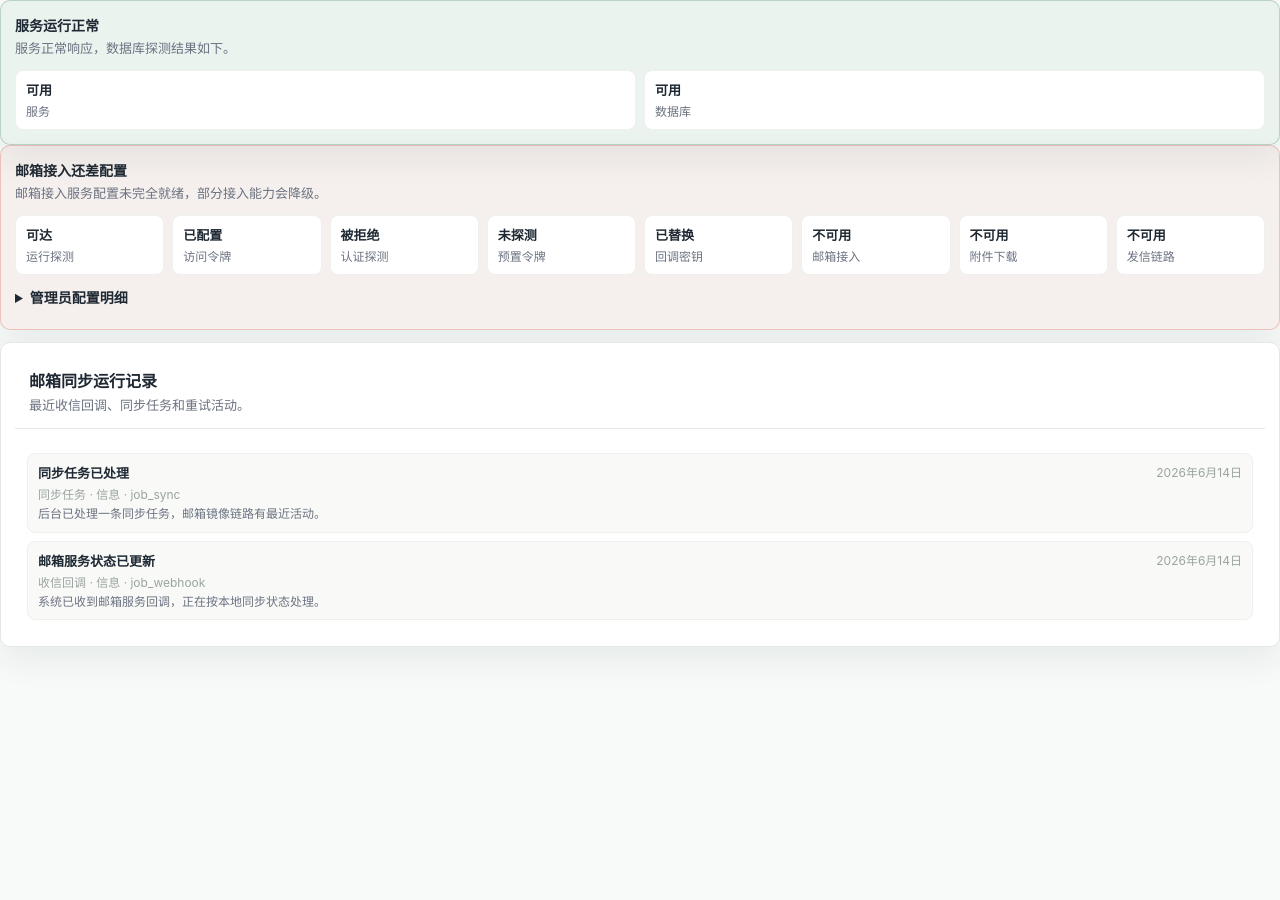
Test: SystemStatusSettingsPanel › shows deployment diagnostics only inside system settings
expect the text "服务运行正常" is shown: met, box [15,17,99,34]
expect the text "数据库" is shown: met, box [655,104,691,119]
Click the heading "管理员配置明细". click: click(79, 298)
box: [30,290,128,306]
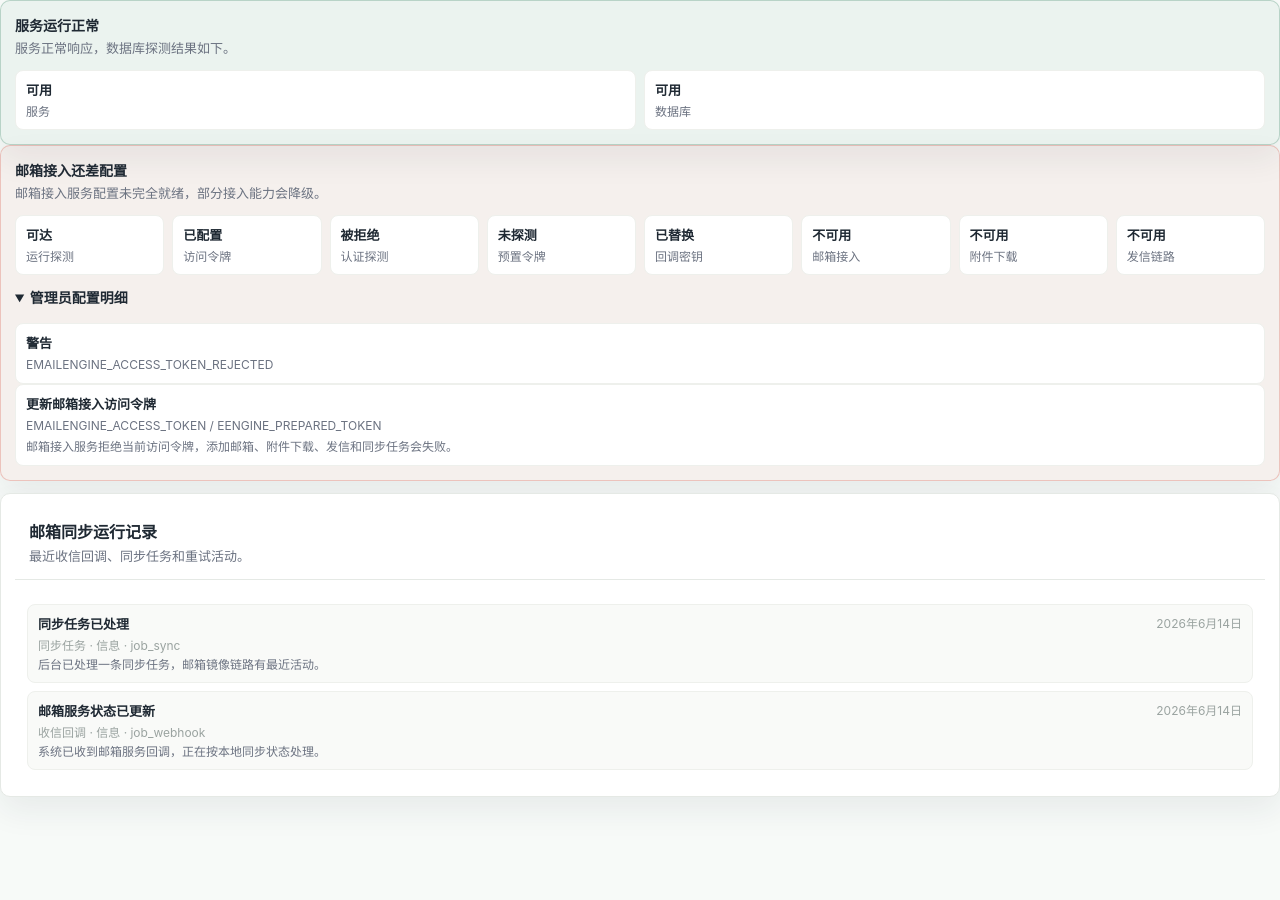
expect the text "同步任务已处理" is shown: met, box [38,616,129,632]
expect the text "EMAILENGINE_ACCESS_TOKEN_REJECTED" is shown: met, box [26,358,274,372]
expect the text "更新邮箱接入访问令牌" is shown: met, box [26,396,156,412]
